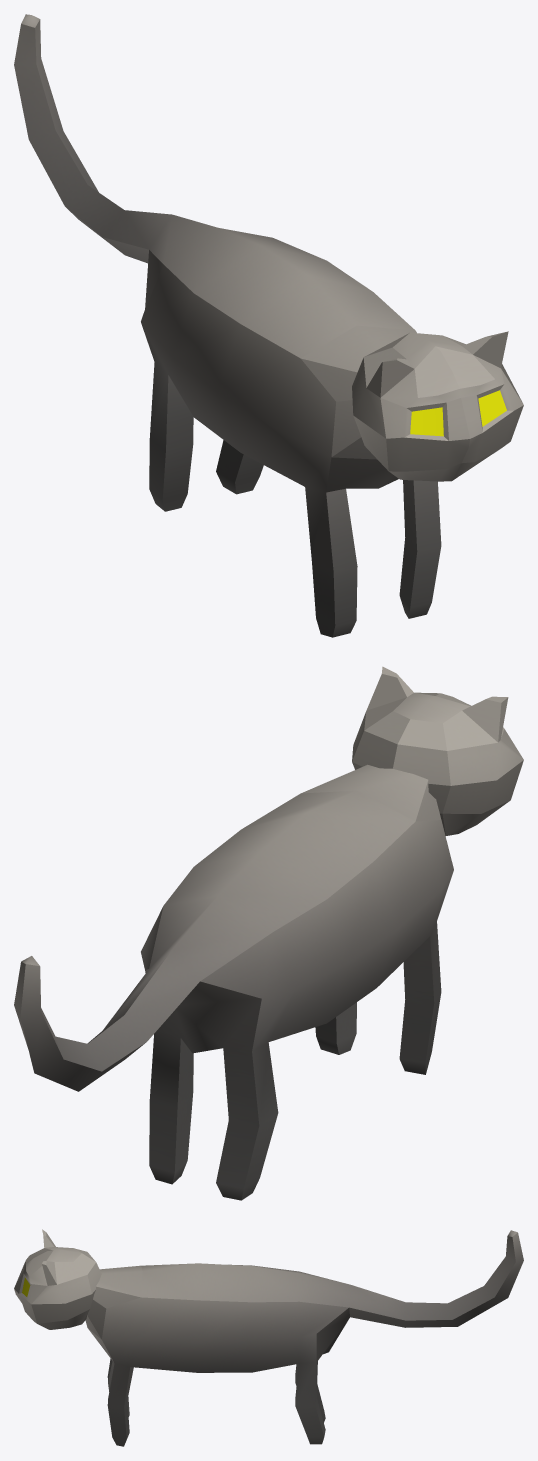
Rendered from cat_mesh.fbx.
The picture shows the model from 3 angles, top to bottom: view 1: azimuth 30°, elevation 25°; view 2: azimuth 150°, elevation 25°; view 3: azimuth 270°, elevation 25°; orthographic projection. The views are drawn at different scales.
Visible parts, largest first — view 1: cat; view 2: cat; view 3: cat.
Boxes of the visible parts, <box> form: cat: <box>14,14,523,637</box>; cat: <box>14,666,523,1200</box>; cat: <box>14,1229,523,1446</box>.
Size of the model in its own units: 0.1645 by 0.3102 by 0.7095.
